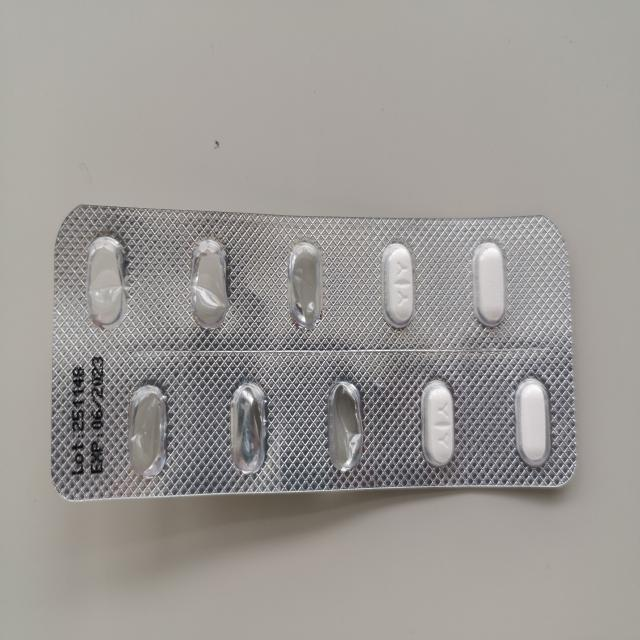Empty: (123, 377, 173, 486), (84, 228, 131, 332), (227, 376, 274, 479), (321, 374, 368, 477), (187, 235, 234, 335), (284, 237, 330, 335)
Pill: (376, 235, 422, 331), (415, 376, 461, 471), (512, 373, 553, 472), (468, 237, 509, 330)
